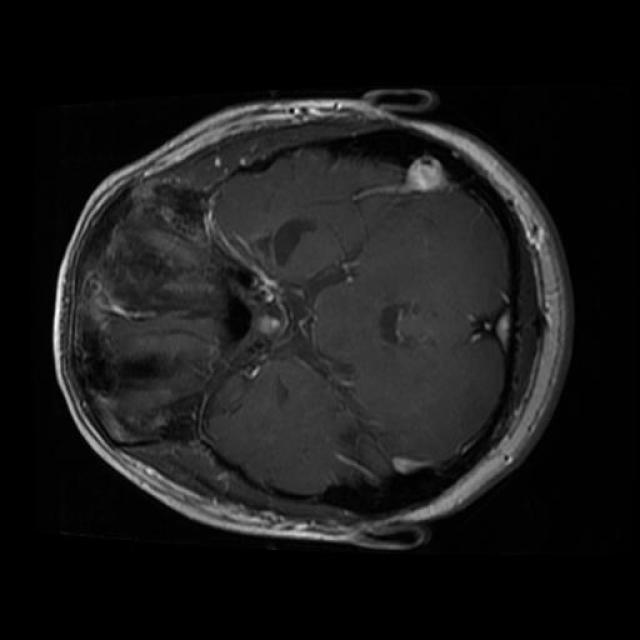Glioma: (96, 185, 231, 444)
